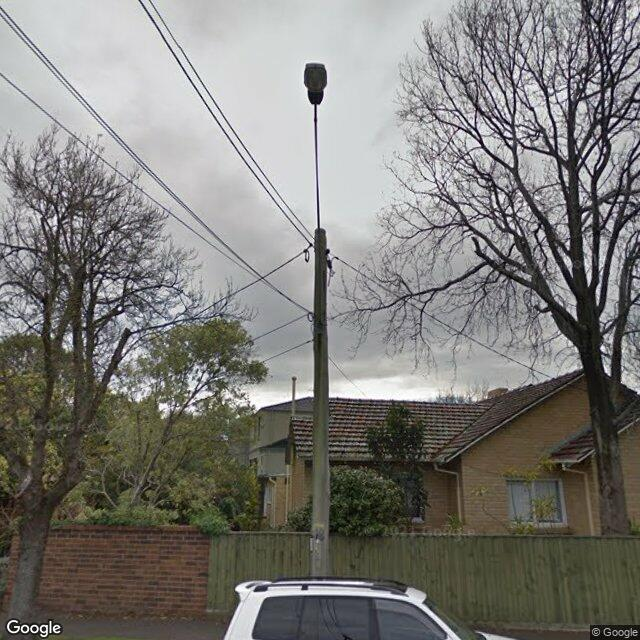streetlight: (304, 62, 328, 244)
timber-pole: (312, 228, 329, 579)
